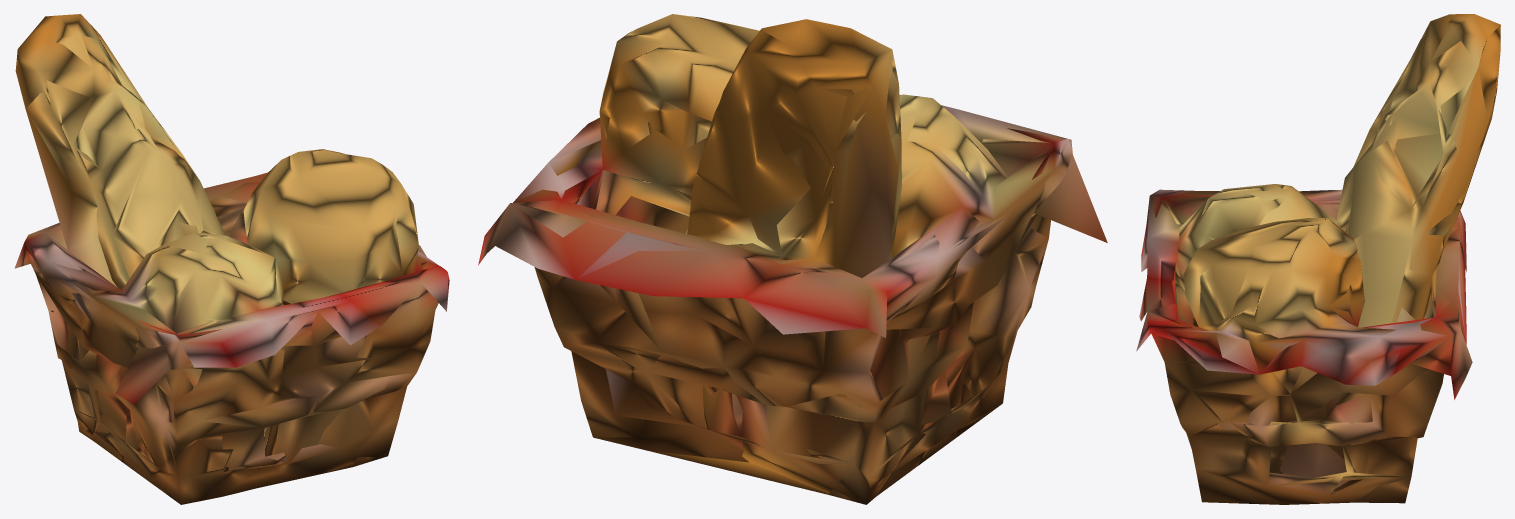
The model's file is gen3d-bread-basket-lod0.glb.
3 views of the same model, side by side, from view 1: azimuth 30°, elevation 25°; view 2: azimuth 150°, elevation 25°; view 3: azimuth 270°, elevation 25° (orthographic). The views are drawn at different scales.
Parts seen in each view (by area): view 1: part_0; view 2: part_0; view 3: part_0.
Boxes of the visible parts, box(x1,y1,x2,y2) form: part_0: box(14, 14, 449, 504); part_0: box(478, 14, 1107, 504); part_0: box(1136, 14, 1500, 504).
Bounding box in the file's own units: 0.9201 × 1 × 0.8373.
